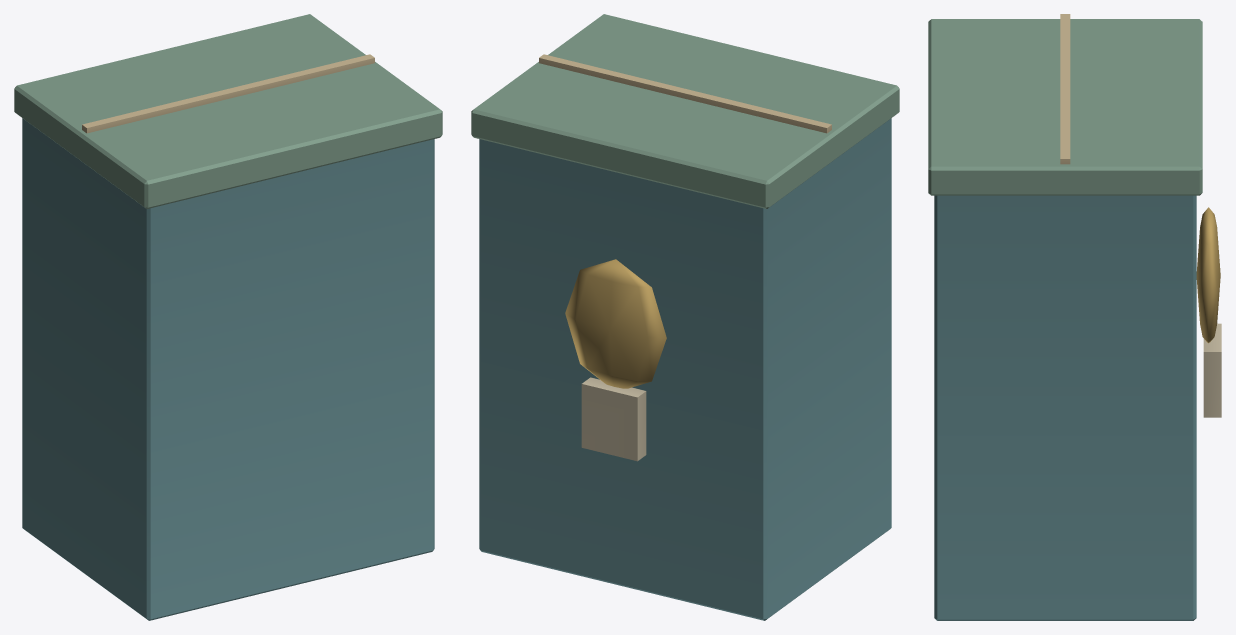
The model's file is bulb_low.glb.
3 views of the same model, side by side, from view 1: azimuth 30°, elevation 25°; view 2: azimuth 150°, elevation 25°; view 3: azimuth 270°, elevation 25° (orthographic). The views are drawn at different scales.
Bounding box in the file's own units: 0.176 × 0.2535 × 0.1455.
